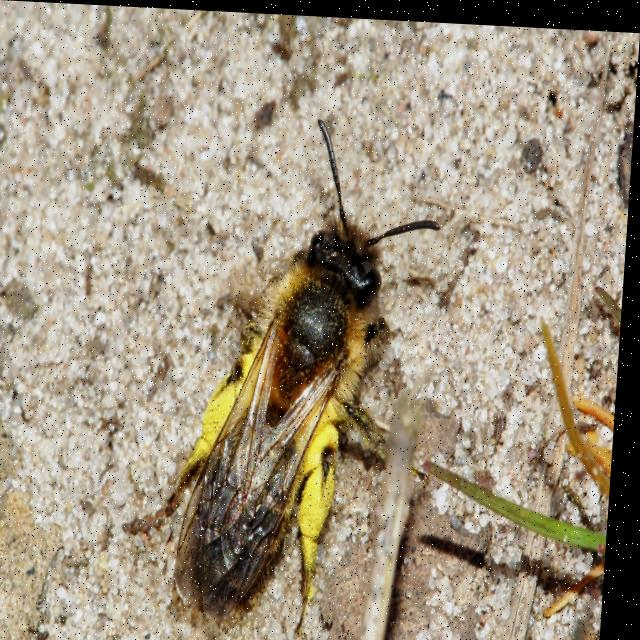Allodapula: (136, 79, 438, 640)
